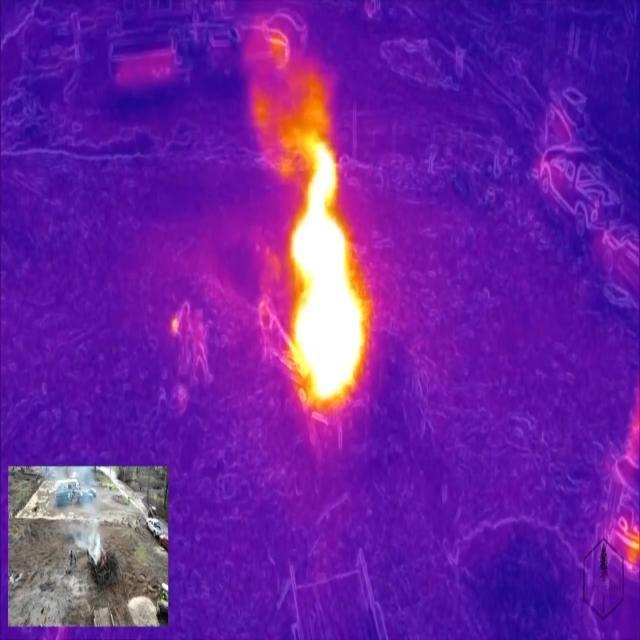fire: (290, 124, 373, 410)
